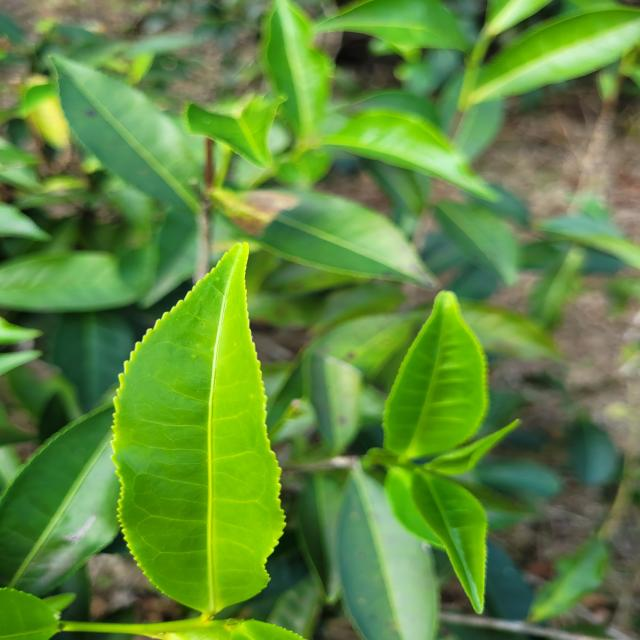Category B(2-4 days): (94, 222, 316, 625)
